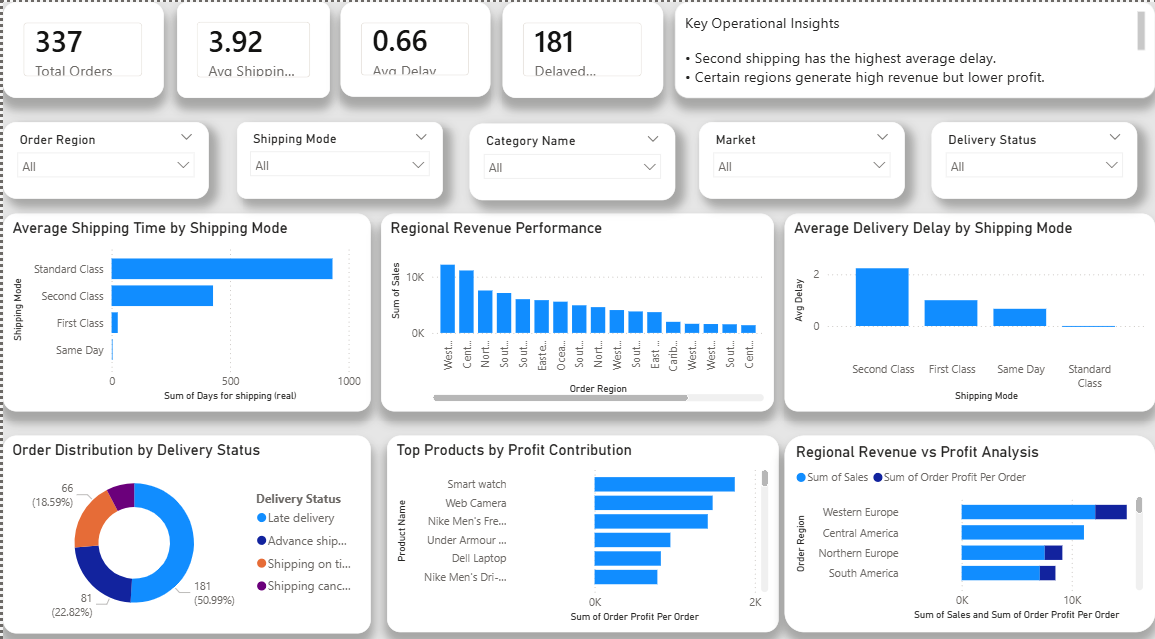

The dashboard page shown, as its layout file describes it:
{"tool":"powerbi","page":{"name":"Supply Chain & Operations","canvas":[1280,720],"ordinal":2},"visuals":[{"type":"cardVisual","fields":{"Data":["supply_chain_data.Total Orders"]},"box":[0,0,178.3,106.7],"z":0},{"type":"cardVisual","fields":{"Data":["supply_chain_data.Avg Shipping Days"]},"box":[193.3,0,170,106.7],"z":1000},{"type":"cardVisual","fields":{"Data":["supply_chain_data.Avg Delay"]},"box":[375,0,166.7,105],"z":2000},{"type":"cardVisual","title":"Late Deliveries","fields":{"Data":["supply_chain_data.Delayed Orders"]},"box":[555,0,178.3,106.7],"z":3000},{"type":"clusteredBarChart","title":"Average Shipping Time by Shipping Mode","fields":{"Category":["supply_chain_data.Shipping Mode"],"Y":["Sum(supply_chain_data.Days for shipping (real))"]},"box":[0,235,408.3,220],"z":4000},{"type":"donutChart","title":"Order Distribution by Delivery Status","fields":{"Category":["supply_chain_data.Delivery Status"],"Y":["CountNonNull(supply_chain_data.Order Id)"]},"box":[0,481.7,408.3,220],"z":5000},{"type":"clusteredColumnChart","title":"Regional Revenue Performance","fields":{"Category":["supply_chain_data.Order Region"],"Y":["Sum(supply_chain_data.Sales)"]},"box":[420,235,436.7,220],"z":6000},{"type":"clusteredBarChart","title":"Top Products by Profit Contribution","fields":{"Category":["supply_chain_data.Product Name"],"Y":["Sum(supply_chain_data.Order Profit Per Order)"]},"box":[426.7,481.7,435,218.3],"z":7000},{"type":"clusteredColumnChart","title":"Average Delivery Delay by Shipping Mode","fields":{"Category":["supply_chain_data.Shipping Mode"],"Y":["supply_chain_data.Avg Delay"]},"box":[868.3,235,411.7,220],"z":8000},{"type":"barChart","title":"Regional Revenue vs Profit Analysis","fields":{"Category":["supply_chain_data.Order Region"],"Y":["Sum(supply_chain_data.Sales)","Sum(supply_chain_data.Order Profit Per Order)"]},"box":[868.3,481.7,411.7,218.3],"z":9000},{"type":"slicer","fields":{"Values":["supply_chain_data.Order Region"]},"box":[0,133.3,228.3,85],"z":10000},{"type":"slicer","fields":{"Values":["supply_chain_data.Shipping Mode"]},"box":[260,133.3,228.3,85],"z":11000},{"type":"slicer","fields":{"Values":["supply_chain_data.Category Name"]},"box":[518.3,135,228.3,85],"z":12000},{"type":"slicer","fields":{"Values":["supply_chain_data.Market"]},"box":[773.3,133.3,228.3,85],"z":13000},{"type":"slicer","fields":{"Values":["supply_chain_data.Delivery Status"]},"box":[1031.7,133.3,228.3,85],"z":14000},{"type":"textbox","box":[746.7,0,533.3,106.7],"z":15000}]}

Visuals, with their boxes in screenshot pixels (x1, y1, x2, y2), scaled from the page's 1280x720 canvas onto the 1155x639 screenshot:
cardVisual - supply_chain_data.Total Orders: box(0, 0, 161, 95)
cardVisual - supply_chain_data.Avg Shipping Days: box(174, 0, 328, 95)
cardVisual - supply_chain_data.Avg Delay: box(338, 0, 489, 93)
"Late Deliveries" cardVisual: box(501, 0, 662, 95)
"Average Shipping Time by Shipping Mode" clusteredBarChart: box(0, 209, 368, 404)
"Order Distribution by Delivery Status" donutChart: box(0, 428, 368, 623)
"Regional Revenue Performance" clusteredColumnChart: box(379, 209, 773, 404)
"Top Products by Profit Contribution" clusteredBarChart: box(385, 428, 778, 621)
"Average Delivery Delay by Shipping Mode" clusteredColumnChart: box(784, 209, 1154, 404)
"Regional Revenue vs Profit Analysis" barChart: box(784, 428, 1154, 621)
slicer - supply_chain_data.Order Region: box(0, 118, 206, 194)
slicer - supply_chain_data.Shipping Mode: box(235, 118, 441, 194)
slicer - supply_chain_data.Category Name: box(468, 120, 674, 195)
slicer - supply_chain_data.Market: box(698, 118, 904, 194)
slicer - supply_chain_data.Delivery Status: box(931, 118, 1137, 194)
textbox: box(674, 0, 1154, 95)
